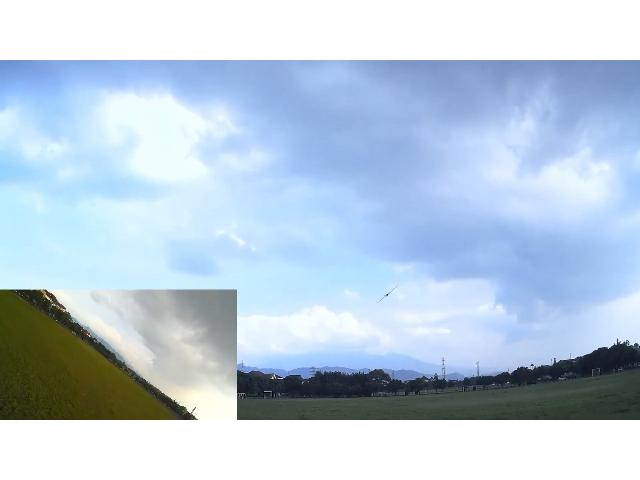Anti-Drone: (368, 281, 398, 311)
